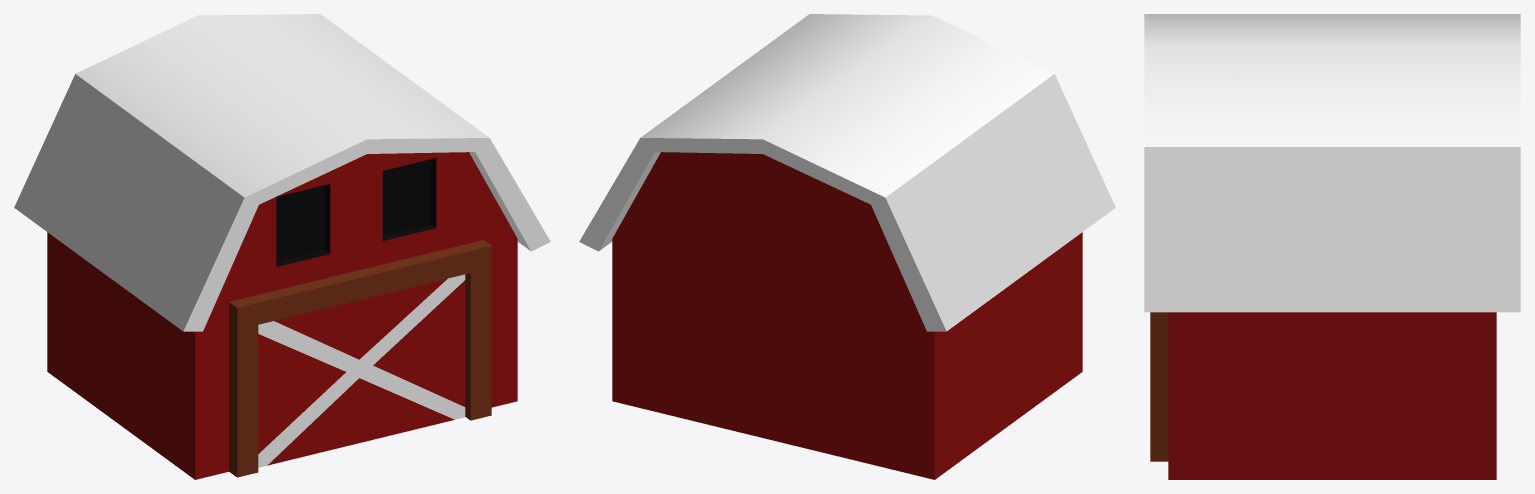
Rendered from grange.FBX.
The picture shows the model from 3 angles, left to right: view 1: azimuth 30°, elevation 25°; view 2: azimuth 150°, elevation 25°; view 3: azimuth 270°, elevation 25°; orthographic projection. The views are drawn at different scales.
Parts seen in each view (by area): view 1: toitGrange, grange, contourPorte, fenetre, croixGrange; view 2: grange, toitGrange; view 3: toitGrange, grange, contourPorte.
Part boxes in pixels (<box>): toitGrange: <box>14,14,550,331</box>; grange: <box>47,152,517,479</box>; contourPorte: <box>229,240,491,477</box>; fenetre: <box>276,158,436,266</box>; croixGrange: <box>258,274,465,467</box>; grange: <box>612,152,1082,479</box>; toitGrange: <box>579,14,1115,331</box>; toitGrange: <box>1144,14,1520,312</box>; grange: <box>1168,312,1496,479</box>; contourPorte: <box>1150,312,1168,461</box>.
Bounding box in the file's own units: 137 × 110 × 110.
